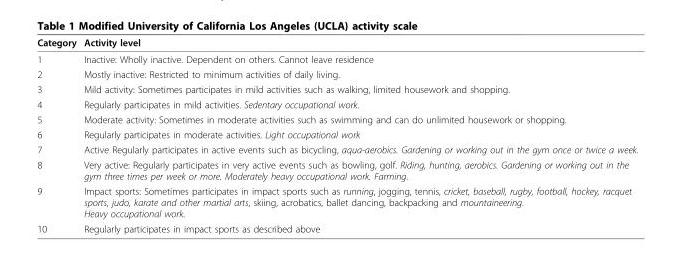table: (36, 36, 637, 233)
table column: (79, 36, 637, 233), (36, 36, 79, 233)
table column header: (36, 36, 637, 50)
table row: (36, 183, 637, 220), (36, 156, 637, 183), (36, 50, 637, 66), (36, 66, 637, 81), (36, 81, 637, 96), (36, 96, 637, 111), (36, 111, 637, 126), (36, 126, 637, 141), (36, 141, 637, 156), (36, 36, 637, 50), (36, 220, 637, 233)
